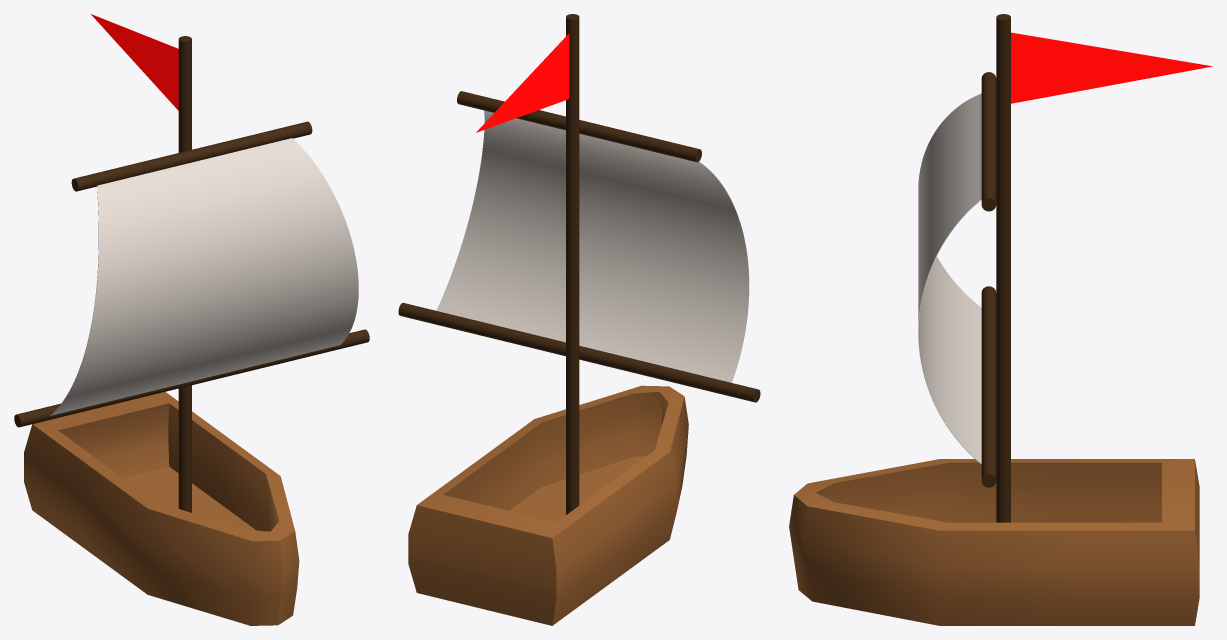
File: Boat.fbx
3 renders of one model, left to right at view 1: azimuth 30°, elevation 25°; view 2: azimuth 150°, elevation 25°; view 3: azimuth 270°, elevation 25°, orthographic. The views are drawn at different scales.
Parts seen in each view (by area): view 1: Sail, Boat, Mast_Main, Mast_Top, Flag, Mast_Bottom; view 2: Sail, Boat, Mast_Main, Mast_Bottom, Flag, Mast_Top; view 3: Boat, Sail, Mast_Main, Flag, Mast_Bottom, Mast_Top.
Part boxes in pixels (left/top/right/bottom): Sail: left=50, top=138, right=358, bottom=415; Boat: left=24, top=391, right=299, bottom=625; Mast_Main: left=178, top=36, right=191, bottom=512; Mast_Top: left=71, top=121, right=312, bottom=191; Flag: left=91, top=14, right=178, bottom=110; Mast_Bottom: left=14, top=329, right=369, bottom=427; Sail: left=436, top=110, right=749, bottom=382; Boat: left=408, top=385, right=688, bottom=625; Mast_Main: left=566, top=14, right=579, bottom=514; Mast_Bottom: left=398, top=303, right=760, bottom=402; Flag: left=476, top=33, right=569, bottom=132; Mast_Top: left=457, top=91, right=701, bottom=162; Boat: left=789, top=459, right=1199, bottom=625; Sail: left=918, top=93, right=981, bottom=464; Mast_Main: left=996, top=14, right=1010, bottom=522; Flag: left=1011, top=32, right=1212, bottom=103; Mast_Bottom: left=981, top=286, right=996, bottom=487; Mast_Top: left=981, top=72, right=996, bottom=211.
Bounding box in the file's own units: 847 × 1203 × 807.
